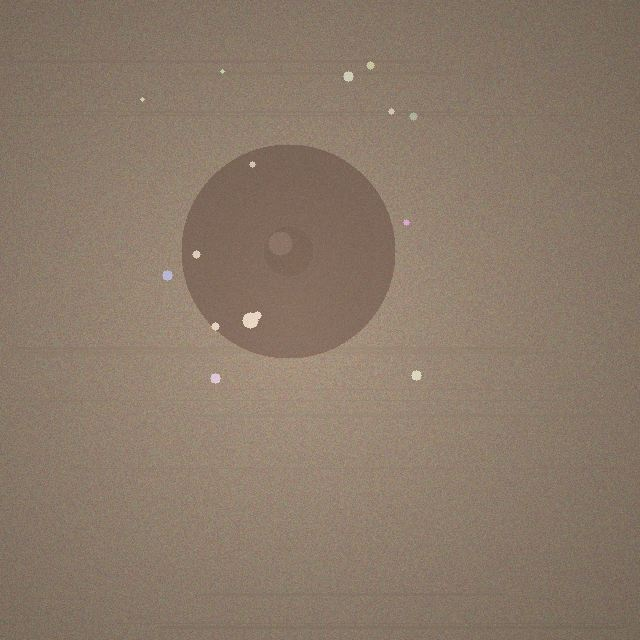overburn: (181, 144, 395, 358)
